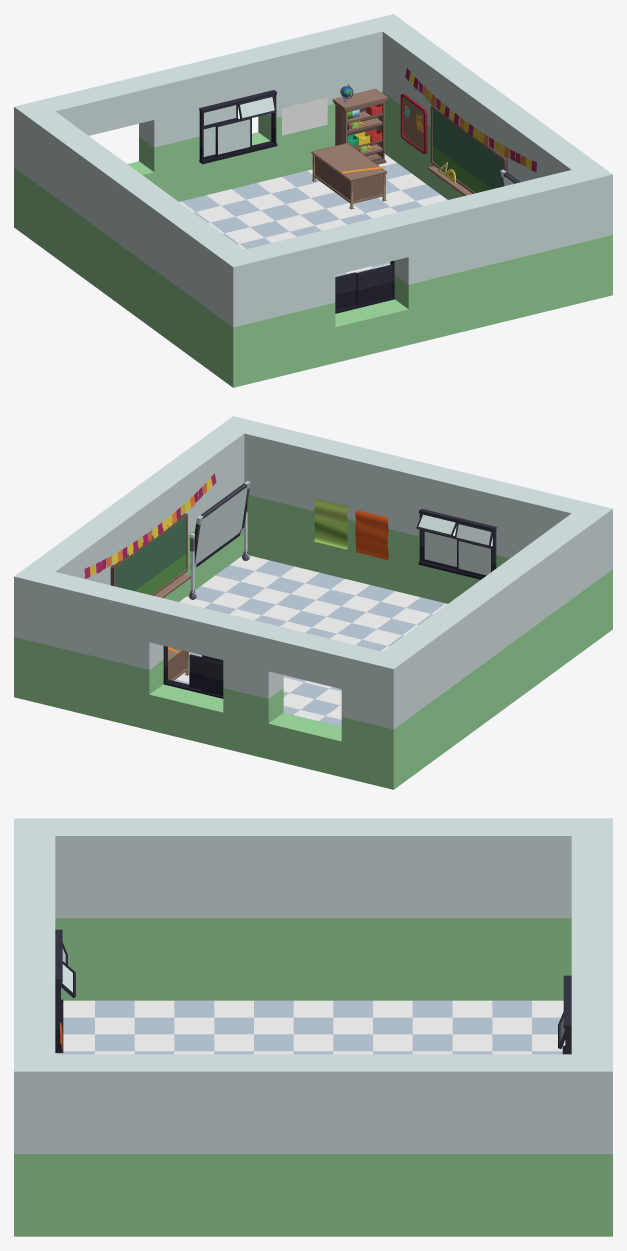
File: Aula.fbx
3 views of the same model, one above another, from view 1: azimuth 30°, elevation 25°; view 2: azimuth 150°, elevation 25°; view 3: azimuth 270°, elevation 25° (orthographic). The views are drawn at different scales.
Parts seen in each view (by area): view 1: pared_drch, pared_back, pared_izq, pared_front, suelo, pizarron, ventana_01, escritorio, librero, ventana_02, cartelitos, cartel (+1 smaller); view 2: pared_izq, pared_back, pared_drch, pared_front, suelo, ventana_02, pizarron, pizarron_02, ventana_01, afiche_01, afiche_02, cartelitos (+1 smaller); view 3: pared_front, pared_back, suelo, pared_izq, pared_drch, ventana_02, ventana_01.
Part boxes in pixels (bbox=[...]): pared_drch: bbox=[244, 170, 586, 381]; pared_back: bbox=[14, 100, 259, 387]; pared_izq: bbox=[40, 20, 382, 201]; pared_front: bbox=[368, 14, 612, 301]; suelo: bbox=[179, 154, 447, 276]; pizarron: bbox=[427, 105, 507, 195]; ventana_01: bbox=[199, 90, 277, 164]; escritorio: bbox=[311, 143, 387, 209]; librero: bbox=[332, 88, 387, 164]; ventana_02: bbox=[335, 260, 394, 313]; cartelitos: bbox=[405, 68, 536, 172]; cartel: bbox=[282, 97, 327, 135]; pared_izq: bbox=[40, 572, 382, 783]; pared_back: bbox=[367, 502, 612, 789]; pared_drch: bbox=[244, 422, 586, 603]; pared_front: bbox=[14, 416, 258, 703]; suelo: bbox=[174, 555, 447, 726]; ventana_02: bbox=[416, 509, 496, 579]; pizarron: bbox=[110, 513, 191, 597]; pizarron_02: bbox=[188, 481, 250, 599]; ventana_01: bbox=[163, 646, 223, 698]; afiche_01: bbox=[313, 498, 347, 549]; afiche_02: bbox=[355, 510, 388, 560]; cartelitos: bbox=[84, 473, 216, 578]; pared_front: bbox=[14, 1054, 612, 1236]; pared_back: bbox=[14, 818, 612, 1000]; suelo: bbox=[55, 1000, 565, 1054]; pared_izq: bbox=[571, 836, 612, 1054]; pared_drch: bbox=[14, 836, 55, 1054]; ventana_02: bbox=[55, 929, 75, 1052]; ventana_01: bbox=[558, 975, 571, 1054].
Size of the model in its own units: 29 by 8.82 by 29.
